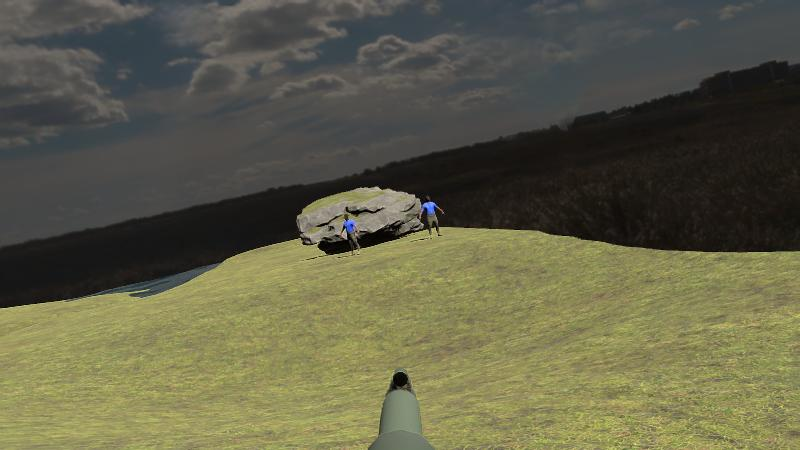Human: (420, 194, 444, 239), (342, 212, 362, 257)
